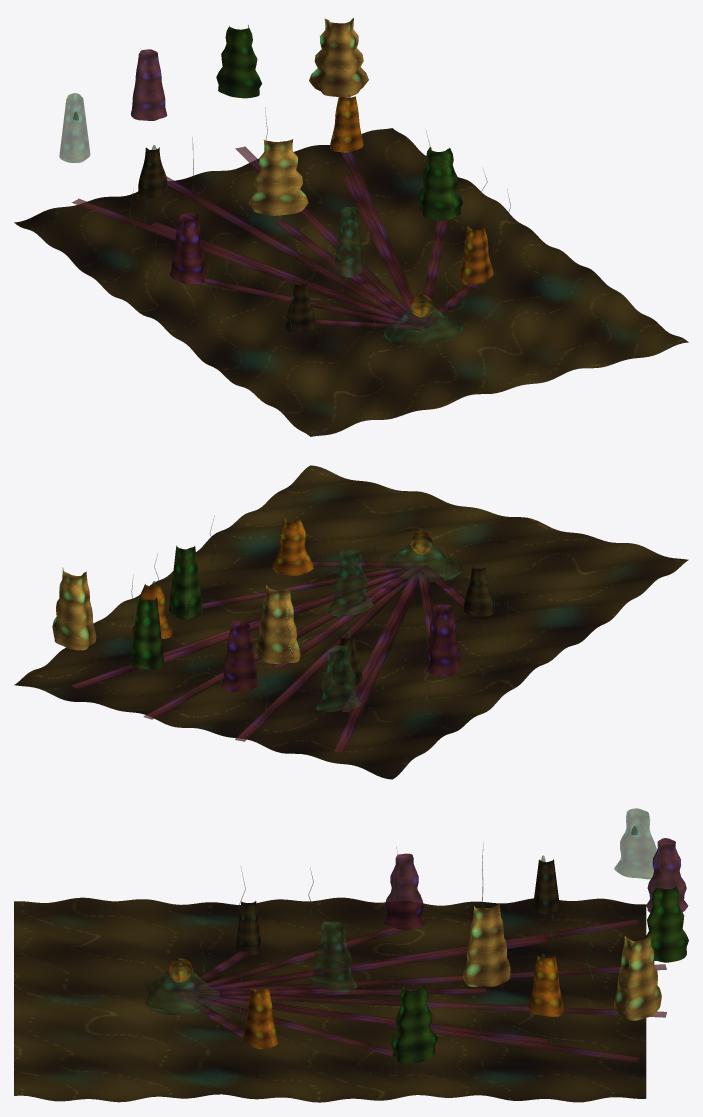
Rendered from ground-world-terrain-v1.glb.
The picture shows the model from 3 angles, top to bottom: view 1: azimuth 30°, elevation 25°; view 2: azimuth 150°, elevation 25°; view 3: azimuth 270°, elevation 25°; orthographic projection. The views are drawn at different scales.
Parts seen in each view (by area): view 1: ground-sacred-black-glass, replay-monumental-chamber, archive-monumental-chamber, wellness-monumental-chamber, ground-central-nexus, focus-monumental-chamber, ground-dimensional-path-replay, ground-dimensional-path-focus, logistics-monumental-chamber, atlas-monumental-chamber, ground-dimensional-path-consent, ground-dimensional-path-passport (+13 smaller); view 2: ground-sacred-black-glass, replay-monumental-chamber, archive-monumental-chamber, ground-central-nexus, logistics-monumental-chamber, council-monumental-chamber, ground-dimensional-path-replay, consent-monumental-chamber, atlas-monumental-chamber, ground-dimensional-path-focus, wellness-monumental-chamber, focus-monumental-chamber (+14 smaller); view 3: ground-sacred-black-glass, replay-monumental-chamber, archive-monumental-chamber, wellness-monumental-chamber, ground-central-nexus, focus-monumental-chamber, ground-dimensional-path-consent, council-monumental-chamber, logistics-monumental-chamber, ground-dimensional-path-replay, consent-monumental-chamber, ground-dimensional-path-atlas (+15 smaller).
Boxes of the visible parts, x1,y1,x2,y2 form: ground-sacred-black-glass: (14,128,688,436); replay-monumental-chamber: (309,18,368,97); archive-monumental-chamber: (249,139,308,215); wellness-monumental-chamber: (417,147,462,220); ground-central-nexus: (384,298,462,347); focus-monumental-chamber: (216,25,261,98); ground-dimensional-path-replay: (71,198,424,326); ground-dimensional-path-focus: (166,176,425,326); logistics-monumental-chamber: (170,212,206,284); atlas-monumental-chamber: (131,49,167,120); ground-dimensional-path-consent: (341,152,423,320); ground-dimensional-path-passport: (149,221,418,323); ground-sacred-black-glass: (14,465,688,779); replay-monumental-chamber: (52,567,96,650); archive-monumental-chamber: (256,585,300,663); ground-central-nexus: (384,535,462,582); logistics-monumental-chamber: (424,604,461,676); council-monumental-chamber: (328,550,373,616); ground-dimensional-path-replay: (334,565,420,752); consent-monumental-chamber: (316,645,361,711); atlas-monumental-chamber: (221,620,258,692); ground-dimensional-path-focus: (235,564,416,741); wellness-monumental-chamber: (169,545,202,619); focus-monumental-chamber: (130,597,164,669); ground-sacred-black-glass: (14,897,646,1102); replay-monumental-chamber: (614,933,661,1020); archive-monumental-chamber: (463,903,510,986); wellness-monumental-chamber: (391,985,437,1064); ground-central-nexus: (145,962,219,1015); focus-monumental-chamber: (645,885,688,962); ground-dimensional-path-consent: (182,991,639,1062); council-monumental-chamber: (309,921,357,992); logistics-monumental-chamber: (383,853,425,930); ground-dimensional-path-replay: (191,919,639,989); consent-monumental-chamber: (614,808,656,879); ground-dimensional-path-atlas: (181,991,666,1017).
Size of the model in its own units: 28 by 9.48 by 40.56.
6 materials, 6 textured.
